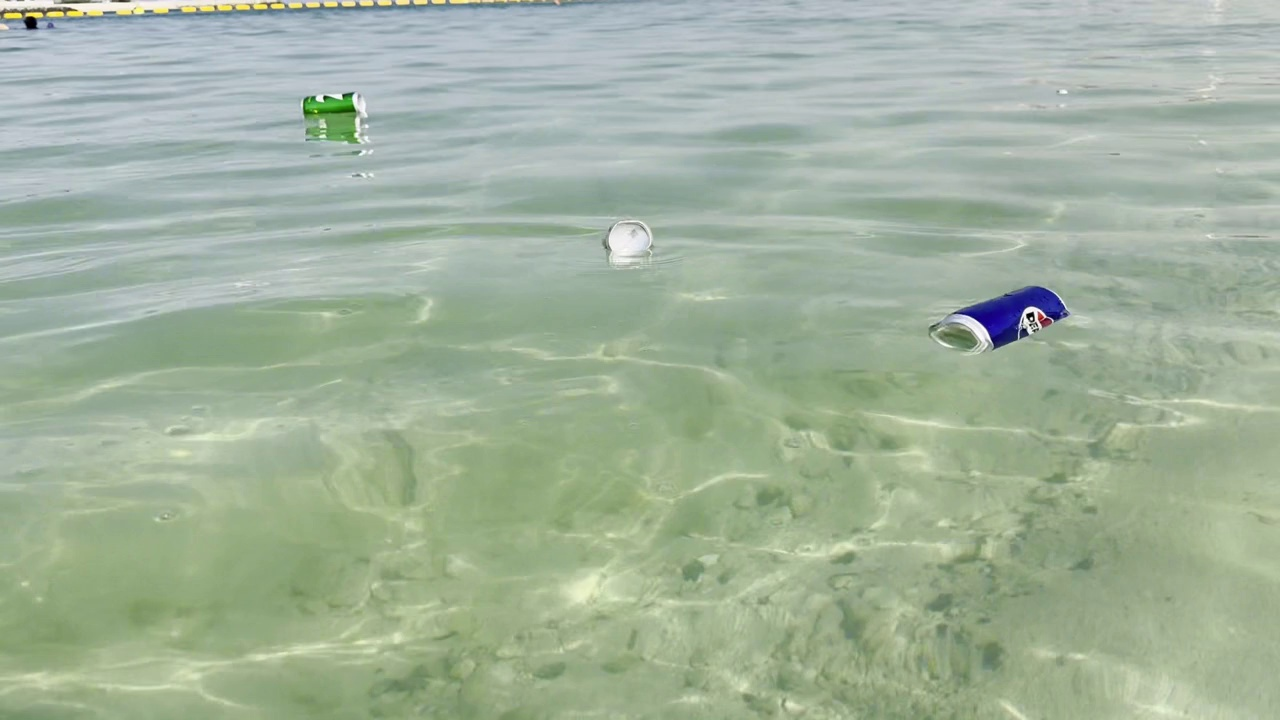debris: (923, 277, 1068, 367), (593, 211, 662, 261), (297, 89, 370, 122)
